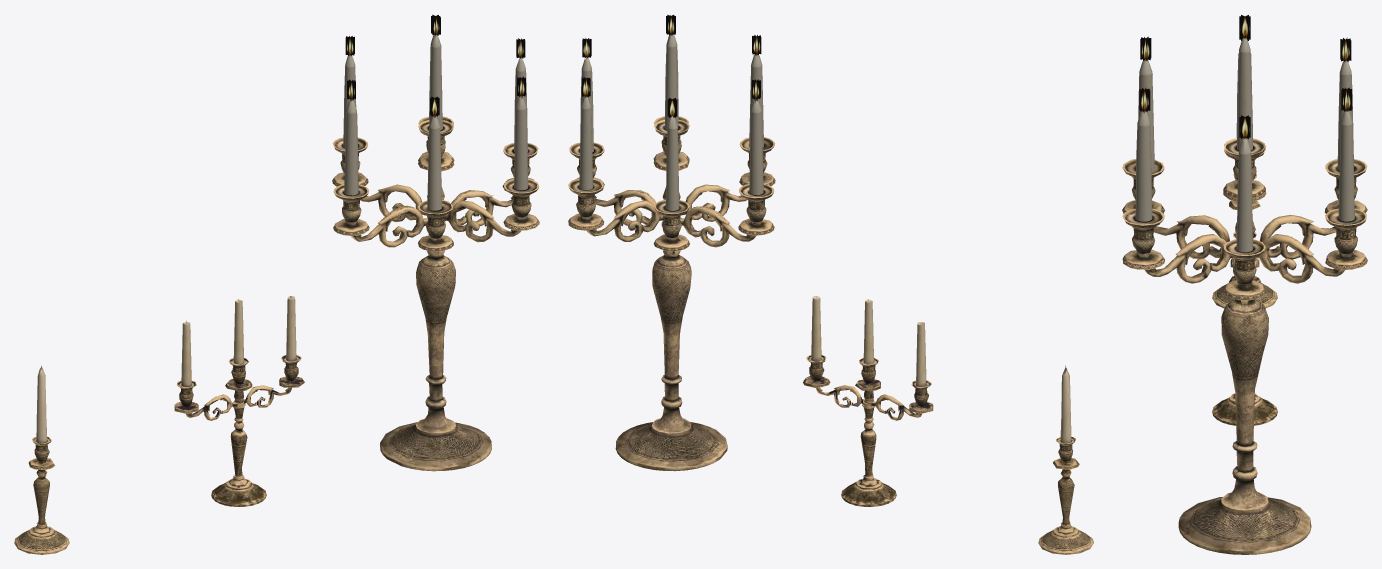
File: brass_candleholders.glb
The picture shows the model from 3 angles, left to right: view 1: azimuth 30°, elevation 25°; view 2: azimuth 150°, elevation 25°; view 3: azimuth 270°, elevation 25°; orthographic projection. The views are drawn at different scales.
Visible parts, largest first — view 1: brass_candleholder_03, brass_candleholder_02, brass_candleholder_01; view 2: brass_candleholder_03, brass_candleholder_02, brass_candleholder_01; view 3: brass_candleholder_03, brass_candleholder_02, brass_candleholder_01.
Boxes of the visible parts, x1,y1,x2,y2 form: brass_candleholder_03: [332, 14, 539, 471]; brass_candleholder_02: [174, 296, 304, 506]; brass_candleholder_01: [14, 366, 69, 554]; brass_candleholder_03: [568, 14, 775, 471]; brass_candleholder_02: [803, 296, 933, 506]; brass_candleholder_01: [1038, 365, 1093, 554]; brass_candleholder_03: [1122, 15, 1367, 554]; brass_candleholder_02: [1212, 232, 1277, 425]; brass_candleholder_01: [1212, 174, 1277, 308].
Size of the model in its own units: 1.05 by 0.8353 by 0.3644.
Materials: 5 (5 with a texture image).
